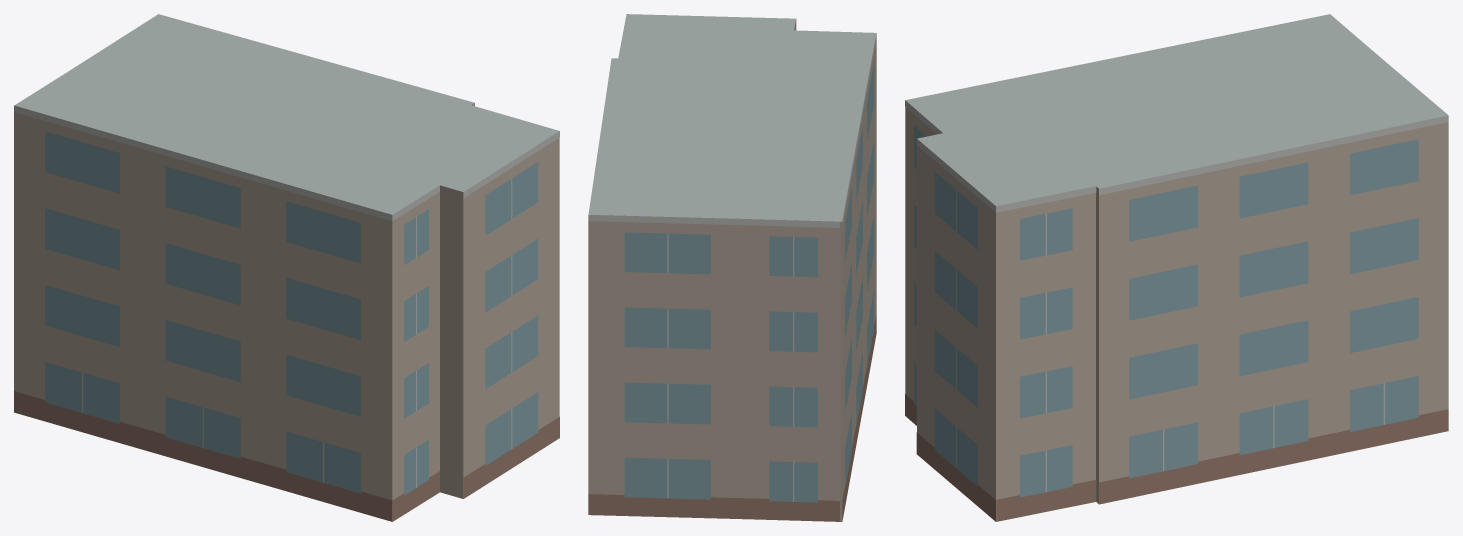
The model's file is survey-upis-32544348.glb.
3 renders of one model, left to right at view 1: azimuth 30°, elevation 25°; view 2: azimuth 150°, elevation 25°; view 3: azimuth 270°, elevation 25°, orthographic. The views are drawn at different scales.
Parts seen in each view (by area): view 1: survey-upis-32544348.tmp; view 2: survey-upis-32544348.tmp; view 3: survey-upis-32544348.tmp.
Part boxes in pixels (x1,y1,x2,y2): survey-upis-32544348.tmp: (14,14,559,521); survey-upis-32544348.tmp: (588,14,876,521); survey-upis-32544348.tmp: (905,14,1448,521).
Size of the model in its own units: 15.29 by 11.7 by 18.27.
